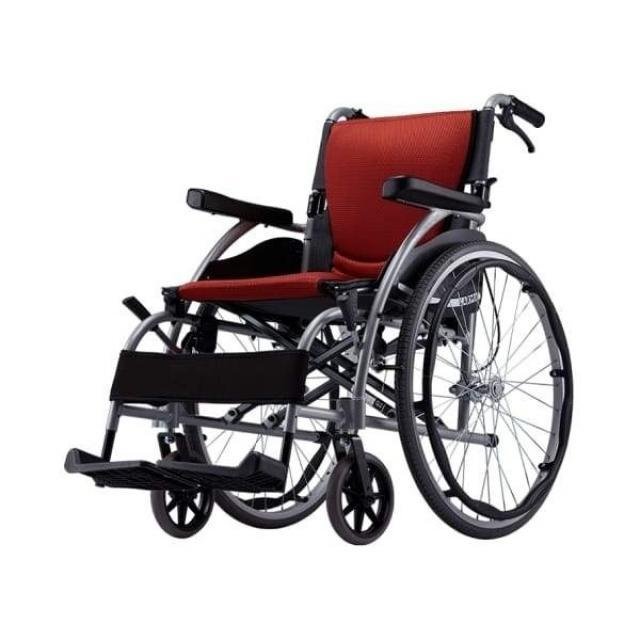wheelchair: (56, 76, 599, 560)
